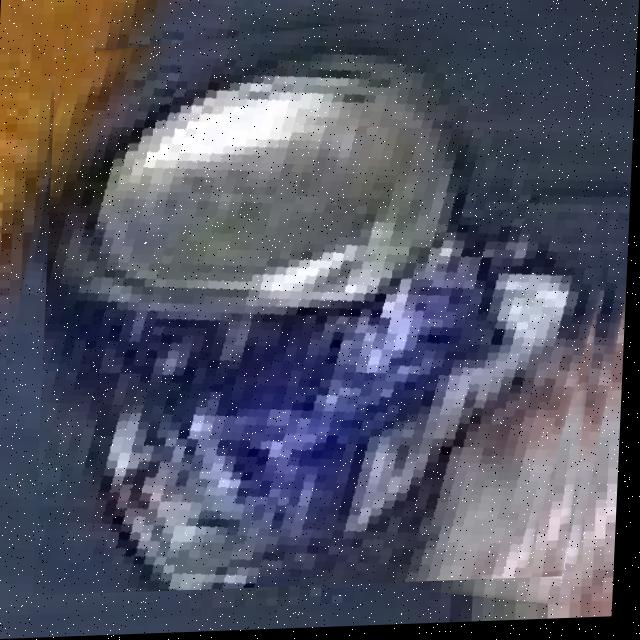can: (46, 16, 607, 592)
